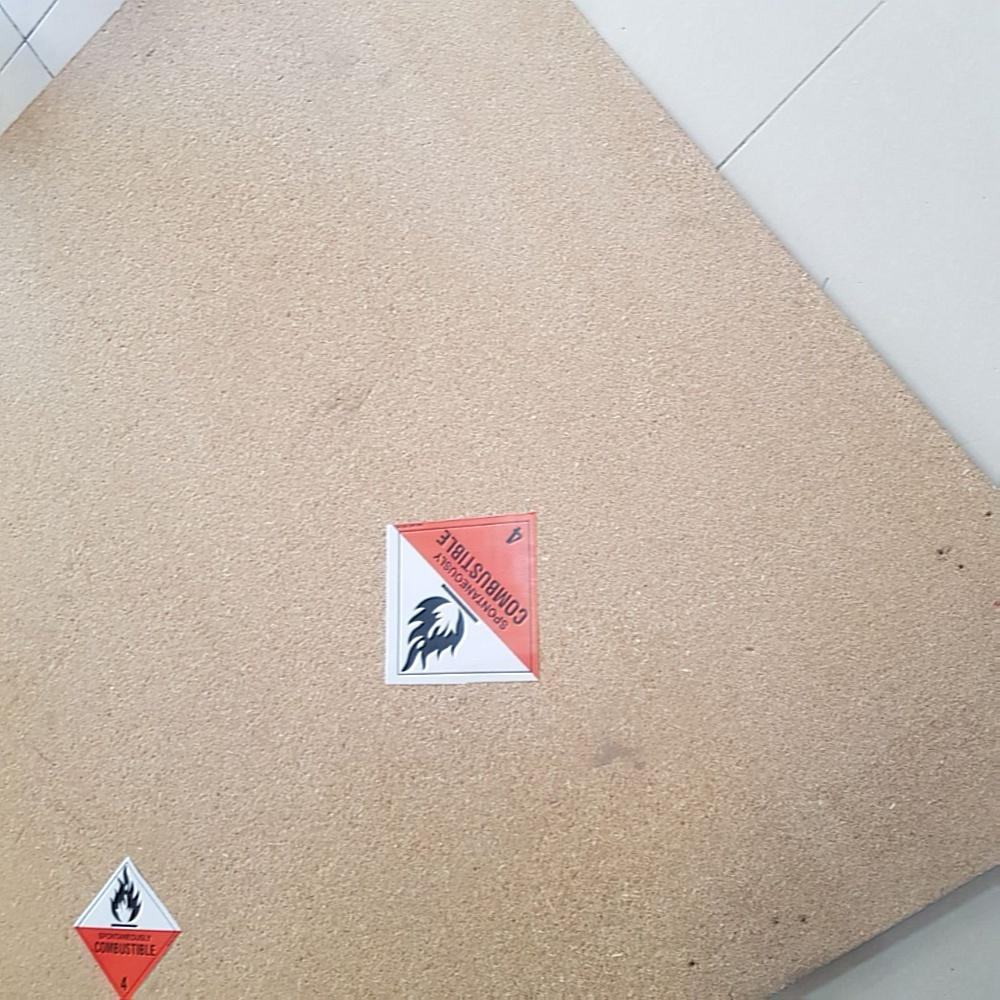spontaneously-combustible: (386, 513, 547, 690), (72, 857, 188, 1000)
